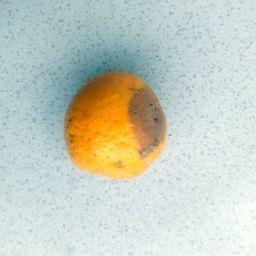Unripe: (63, 71, 168, 180)
